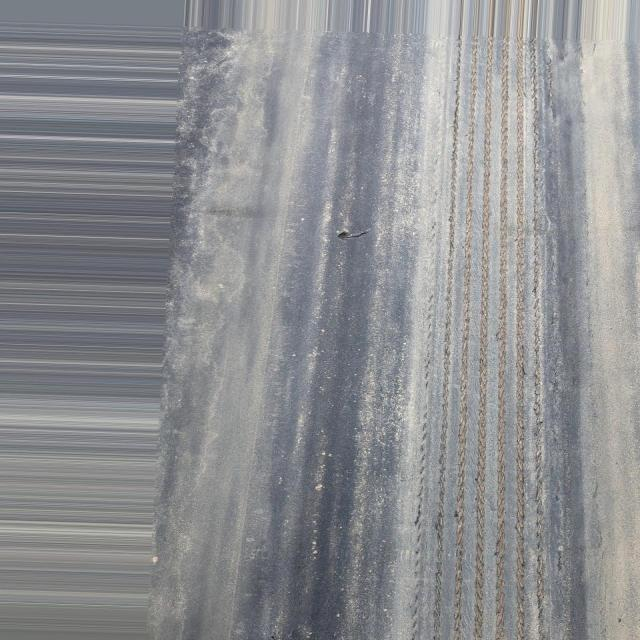Tear: (327, 208, 372, 248)
Wear: (441, 31, 566, 640)
